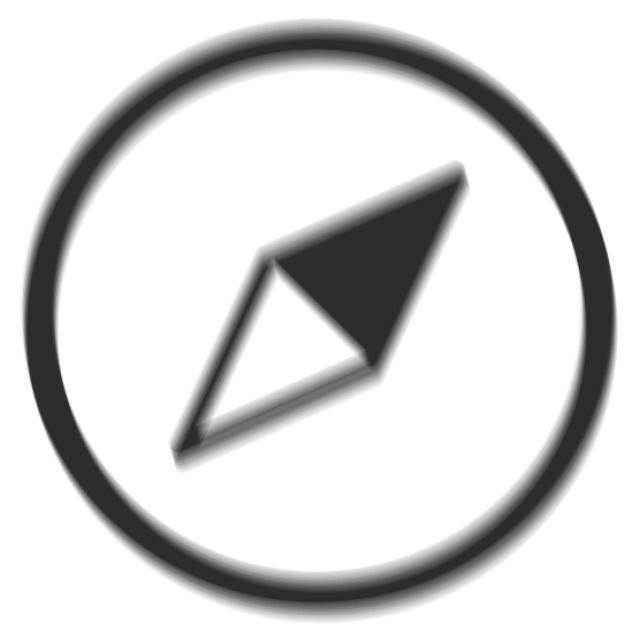compass: (6, 5, 635, 640)
